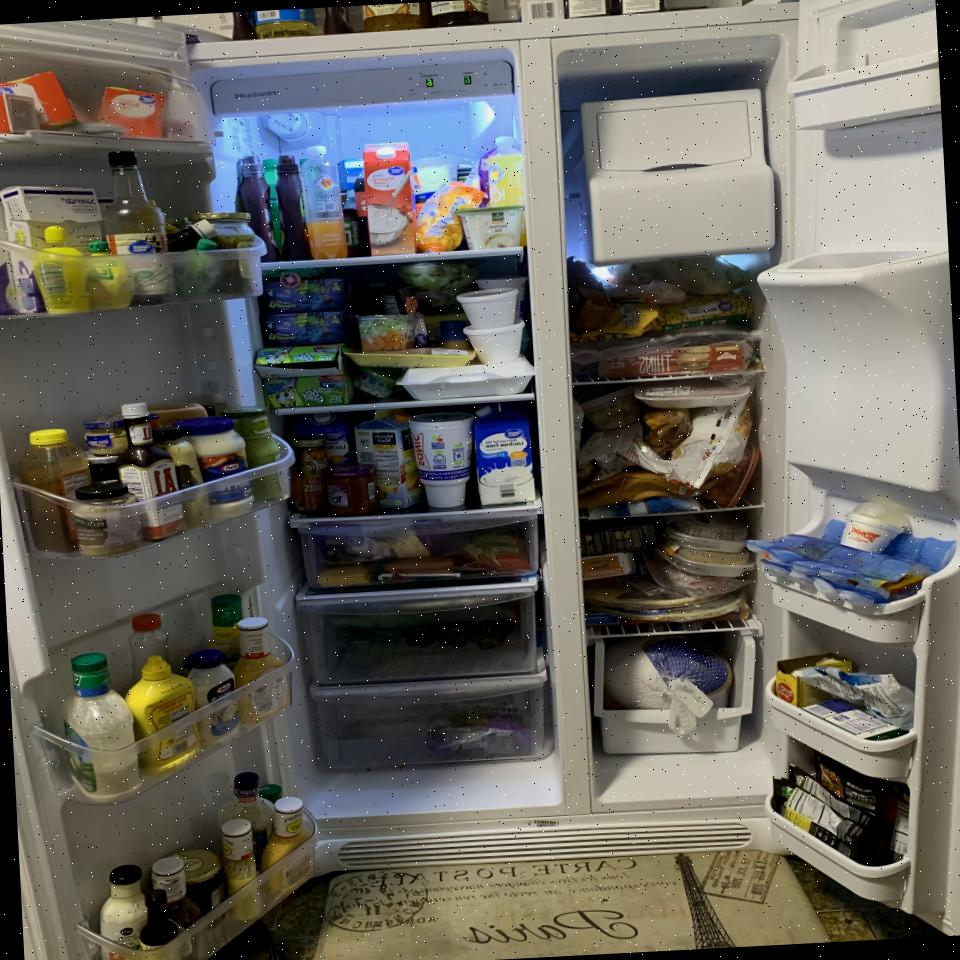Leche: (472, 401, 536, 506)
Mantequilla: (0, 69, 79, 131), (95, 84, 166, 142)
Queso: (316, 566, 369, 587)
